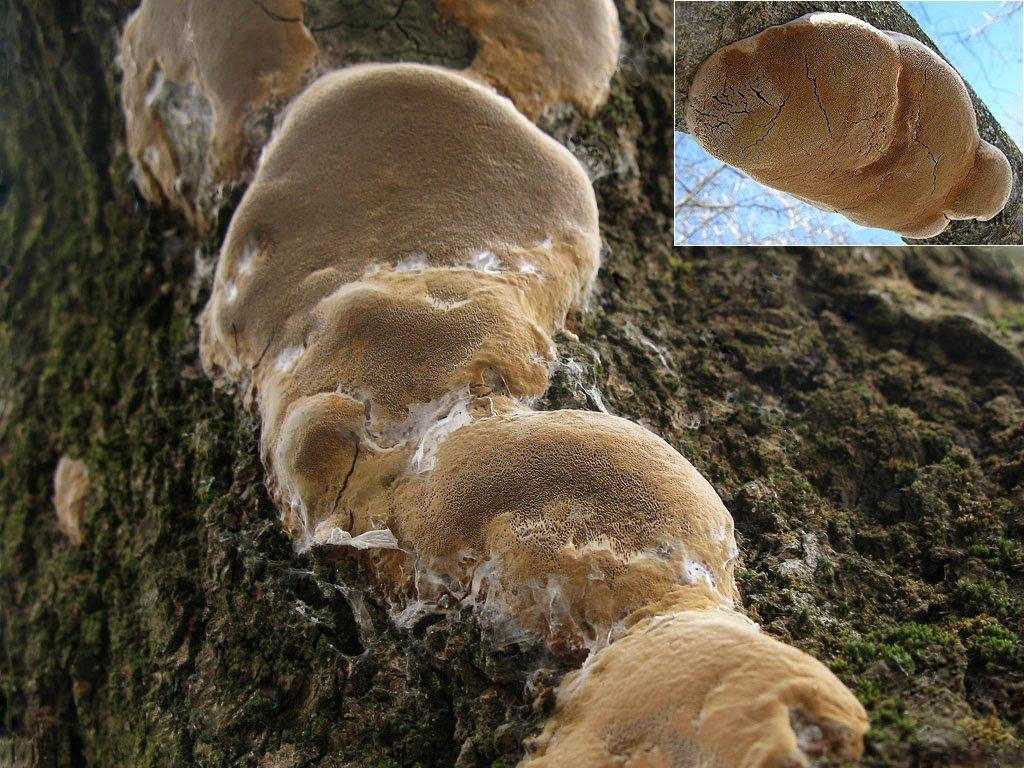Plum tinder fungus: (203, 53, 588, 531), (419, 397, 758, 618), (537, 602, 869, 768), (107, 0, 335, 211), (418, 0, 656, 110), (39, 443, 102, 542)
